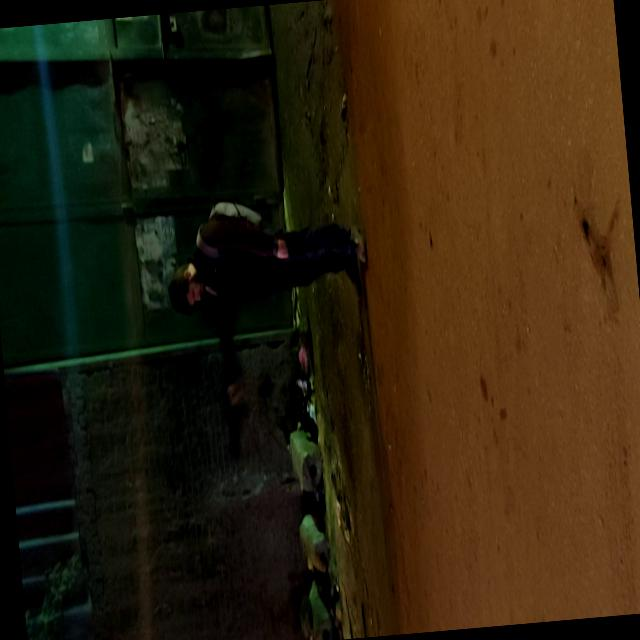long weapon: (203, 360, 256, 480)
